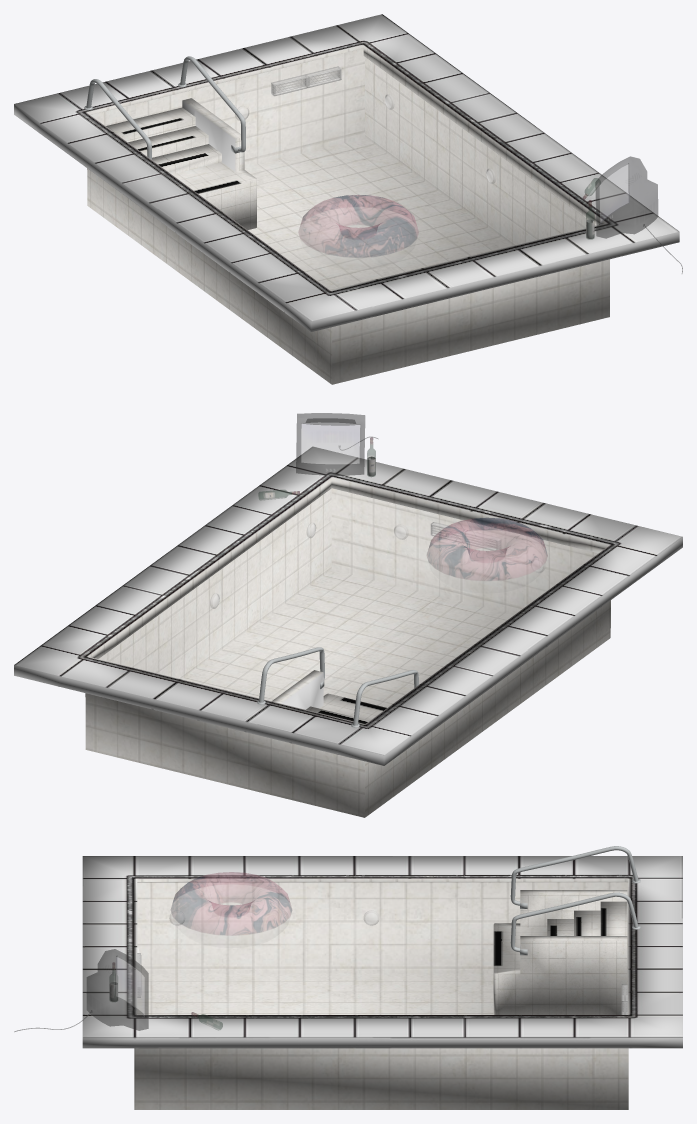
File: the_night_pool.glb
3 views of the same model, one above another, from view 1: azimuth 30°, elevation 25°; view 2: azimuth 150°, elevation 25°; view 3: azimuth 270°, elevation 25° (orthographic).
Visible parts, largest first — view 1: Object_4, Object_3; view 2: Object_4, Object_3; view 3: Object_4, Object_3.
Boxes of the visible parts, x1,y1,x2,y2 form: Object_4: (14, 14, 682, 384); Object_3: (235, 66, 682, 273); Object_4: (14, 438, 682, 817); Object_3: (210, 413, 547, 608); Object_4: (22, 846, 682, 1109); Object_3: (14, 872, 627, 1031).
Size of the model in its own units: 775 by 299 by 1207.
3 materials, 3 textured.
